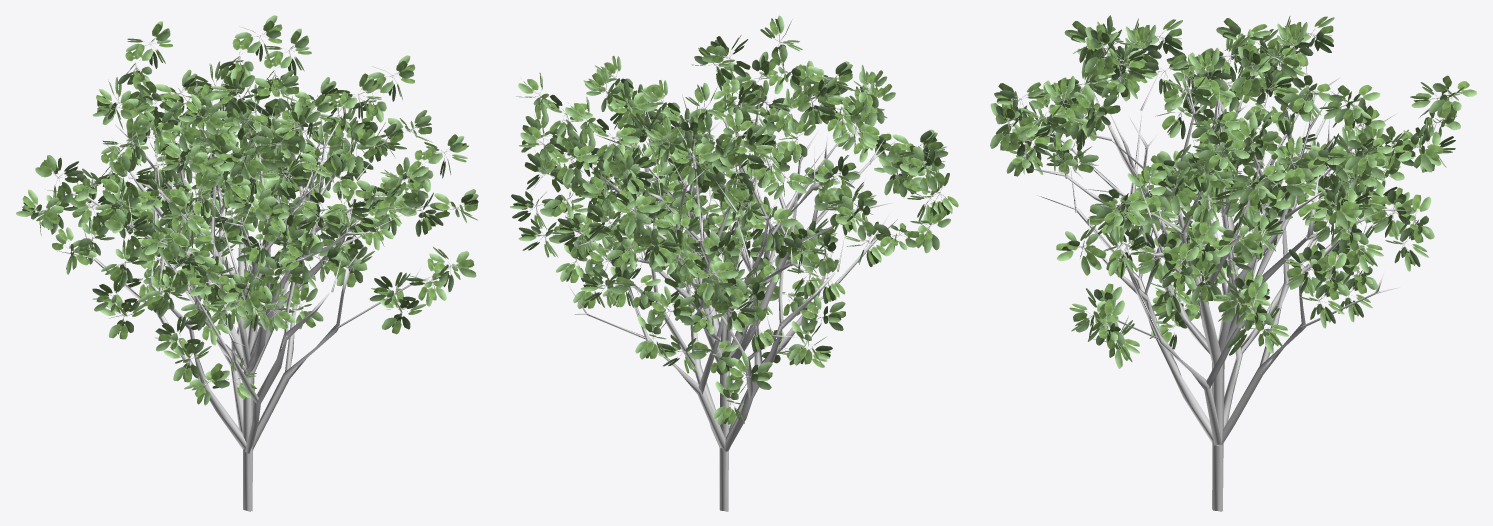
Rendered from TreeLOD1.fbx.
The picture shows the model from 3 angles, left to right: view 1: azimuth 30°, elevation 25°; view 2: azimuth 150°, elevation 25°; view 3: azimuth 270°, elevation 25°; orthographic projection. The views are drawn at different scales.
Visible parts, largest first — view 1: Plane.1544, Tree.001; view 2: Plane.1544, Tree.001; view 3: Plane.1544, Tree.001.
Part boxes in pixels (x1=…): Plane.1544: x1=16, y1=15, x2=478, y2=405; Tree.001: x1=47, y1=83, x2=431, y2=511; Plane.1544: x1=510, y1=15, x2=958, y2=424; Tree.001: x1=567, y1=91, x2=897, y2=511; Plane.1544: x1=990, y1=15, x2=1476, y2=368; Tree.001: x1=1027, y1=49, x2=1410, y2=511.
Size of the model in its own units: 427 by 455 by 418.
